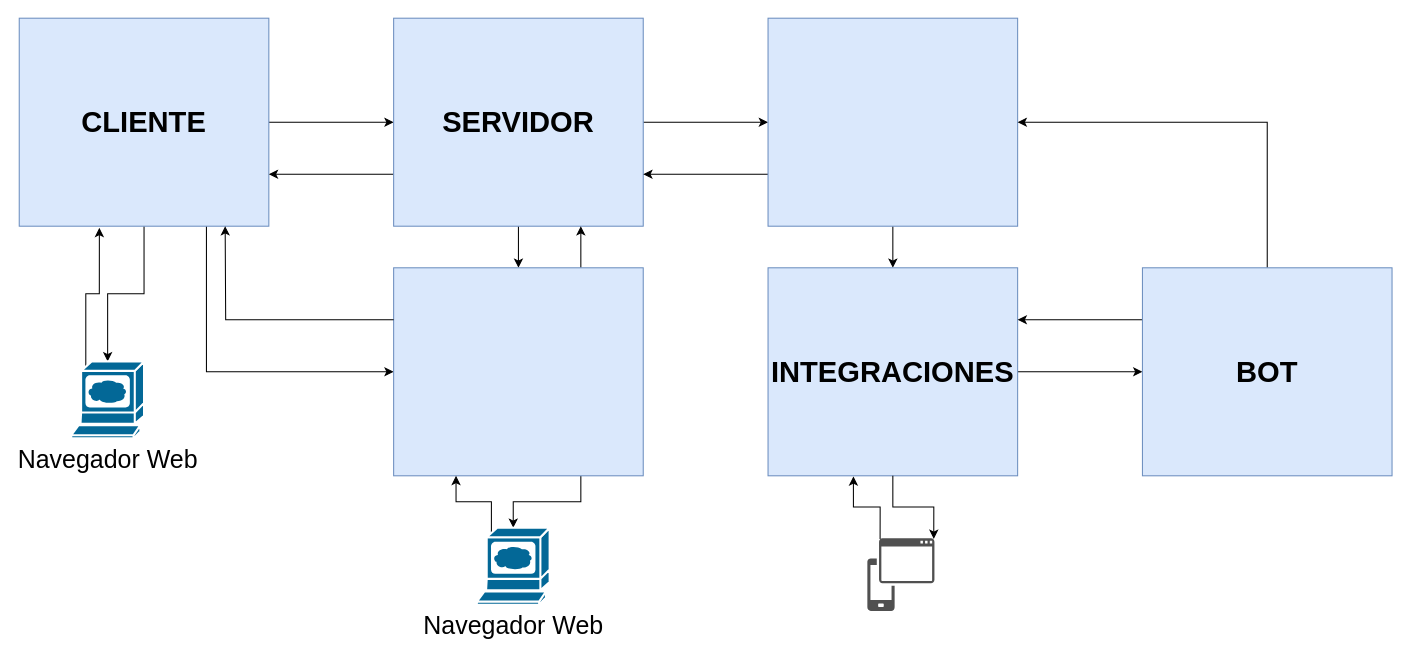
The diagram is 1410 pixels wide and 667 high, and some of its shapes have lost their labels. Each missing label, with the centre of its shape:
Dispositivo Usuario: point (900, 574)
SERVICIOS: point (518, 371)
SERVIDOR BOT: point (892, 121)
